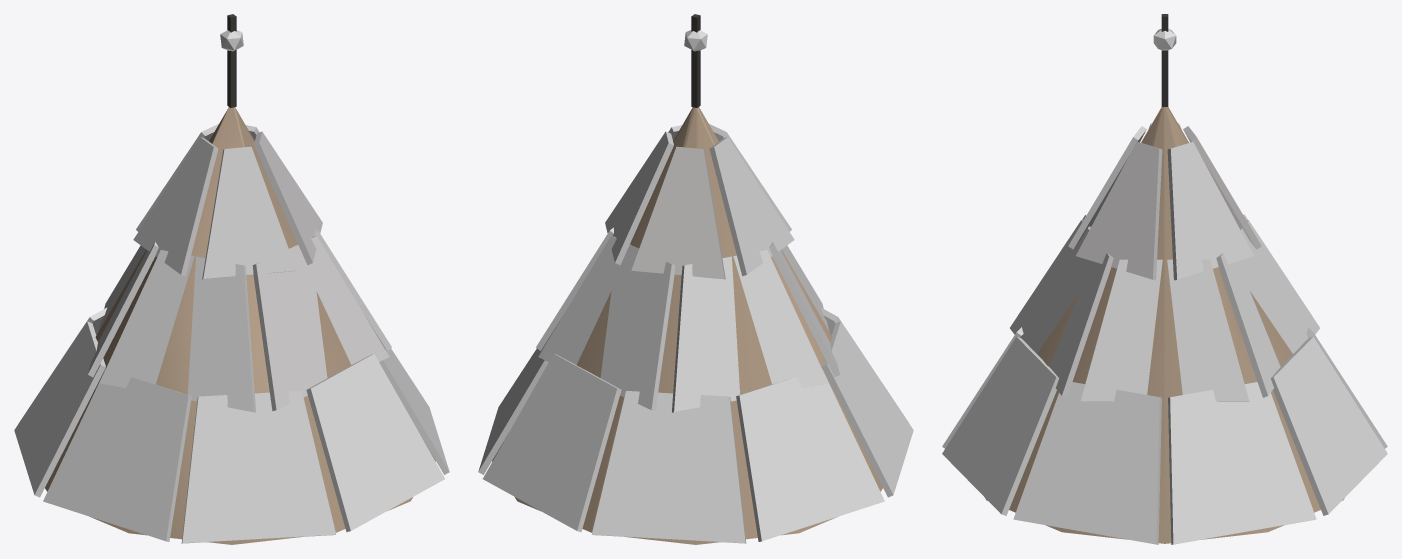
File: Kit_RealKeep_CFL_Fractured.fbx
3 renders of one model, left to right at view 1: azimuth 30°, elevation 25°; view 2: azimuth 150°, elevation 25°; view 3: azimuth 270°, elevation 25°, orthographic.
Parts seen in each view (by area): view 1: Kit_RealKeep_CFL_frag_10, Kit_RealKeep_CFL_frag_16, Kit_RealKeep_CFL_frag_09, Kit_RealKeep_CFL_frag_03, Kit_RealKeep_CFL_frag_11, Kit_RealKeep_CFL_frag_14, Kit_RealKeep_CFL_frag_01, Kit_RealKeep_CFL_frag_08, Kit_RealKeep_CFL_frag_12, Kit_RealKeep_CFL_frag_13, Kit_RealKeep_CFL_frag_02, Kit_RealKeep_CFL_frag_15; view 2: Kit_RealKeep_CFL_frag_02, Kit_RealKeep_CFL_frag_07, Kit_RealKeep_CFL_frag_16, Kit_RealKeep_CFL_frag_08, Kit_RealKeep_CFL_frag_06, Kit_RealKeep_CFL_frag_13, Kit_RealKeep_CFL_frag_09, Kit_RealKeep_CFL_frag_01, Kit_RealKeep_CFL_frag_05, Kit_RealKeep_CFL_frag_14, Kit_RealKeep_CFL_frag_04, Kit_RealKeep_CFL_frag_03 (+1 smaller); view 3: Kit_RealKeep_CFL_frag_05, Kit_RealKeep_CFL_frag_12, Kit_RealKeep_CFL_frag_03, Kit_RealKeep_CFL_frag_16, Kit_RealKeep_CFL_frag_15, Kit_RealKeep_CFL_frag_06, Kit_RealKeep_CFL_frag_11, Kit_RealKeep_CFL_frag_02, Kit_RealKeep_CFL_frag_04, Kit_RealKeep_CFL_frag_01, Kit_RealKeep_CFL_frag_07, Kit_RealKeep_CFL_frag_10.
Part boxes in pixels (x1,y1,x2,y2): Kit_RealKeep_CFL_frag_10: [181, 391, 335, 543]; Kit_RealKeep_CFL_frag_16: [133, 124, 322, 279]; Kit_RealKeep_CFL_frag_09: [43, 370, 191, 541]; Kit_RealKeep_CFL_frag_03: [235, 108, 435, 532]; Kit_RealKeep_CFL_frag_11: [306, 354, 444, 532]; Kit_RealKeep_CFL_frag_14: [99, 250, 255, 412]; Kit_RealKeep_CFL_frag_01: [89, 14, 336, 544]; Kit_RealKeep_CFL_frag_08: [14, 321, 105, 497]; Kit_RealKeep_CFL_frag_12: [379, 348, 449, 474]; Kit_RealKeep_CFL_frag_13: [88, 242, 158, 377]; Kit_RealKeep_CFL_frag_02: [45, 113, 225, 491]; Kit_RealKeep_CFL_frag_15: [314, 227, 391, 350]; Kit_RealKeep_CFL_frag_02: [538, 107, 838, 544]; Kit_RealKeep_CFL_frag_07: [592, 391, 746, 543]; Kit_RealKeep_CFL_frag_16: [605, 124, 794, 279]; Kit_RealKeep_CFL_frag_08: [736, 370, 884, 541]; Kit_RealKeep_CFL_frag_06: [483, 354, 621, 532]; Kit_RealKeep_CFL_frag_13: [672, 250, 828, 412]; Kit_RealKeep_CFL_frag_09: [822, 321, 913, 497]; Kit_RealKeep_CFL_frag_01: [684, 14, 882, 491]; Kit_RealKeep_CFL_frag_05: [478, 348, 548, 474]; Kit_RealKeep_CFL_frag_14: [769, 242, 839, 377]; Kit_RealKeep_CFL_frag_04: [492, 291, 622, 532]; Kit_RealKeep_CFL_frag_03: [630, 108, 692, 248]; Kit_RealKeep_CFL_frag_05: [1168, 382, 1316, 544]; Kit_RealKeep_CFL_frag_12: [1013, 382, 1161, 544]; Kit_RealKeep_CFL_frag_03: [985, 107, 1239, 543]; Kit_RealKeep_CFL_frag_16: [1068, 123, 1261, 280]; Kit_RealKeep_CFL_frag_15: [1080, 259, 1249, 401]; Kit_RealKeep_CFL_frag_06: [1271, 336, 1387, 515]; Kit_RealKeep_CFL_frag_11: [942, 336, 1058, 515]; Kit_RealKeep_CFL_frag_02: [1168, 107, 1319, 397]; Kit_RealKeep_CFL_frag_04: [1240, 291, 1344, 535]; Kit_RealKeep_CFL_frag_01: [1141, 14, 1176, 142]; Kit_RealKeep_CFL_frag_07: [1306, 327, 1387, 448]; Kit_RealKeep_CFL_frag_10: [942, 327, 1023, 448].
Size of what is drawn, in the model's own units: 2.01 by 2.2 by 2.01.
